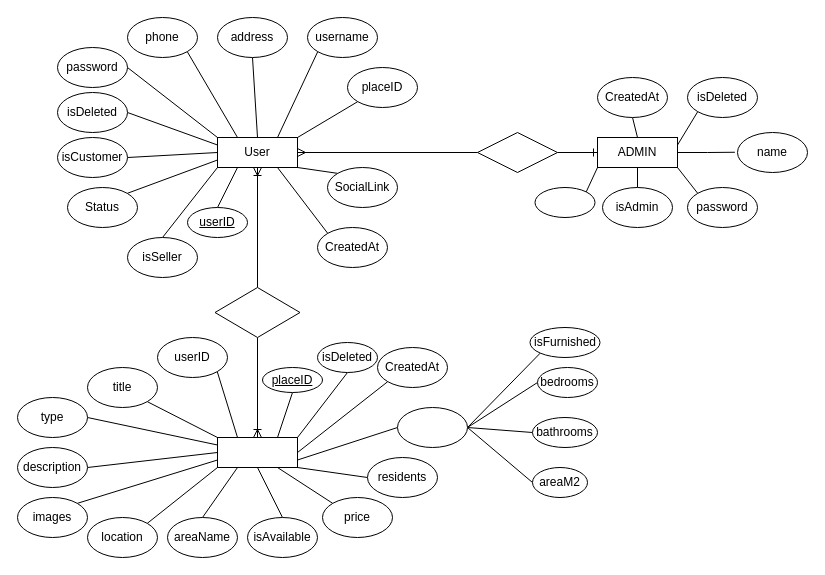
The diagram is 825 pixels wide and 575 high, and some of its shapes have lost their labels. The shapes that lost their labels are listed below. From the top down, each one's box as (x1, y1, x2, y2) in pixels, then its label:
(476, 132, 558, 172): Approves
(534, 186, 595, 218): adminID
(214, 286, 300, 338): Lists/Rents
(396, 406, 468, 448): filter
(216, 436, 298, 468): Place
